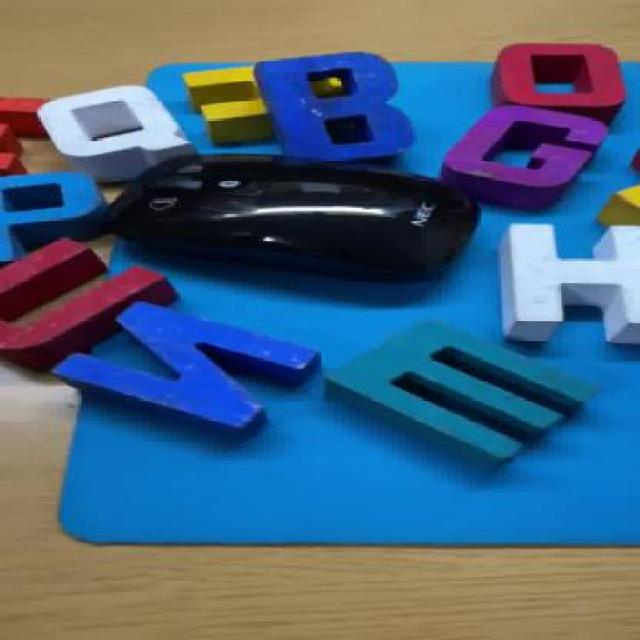B: (258, 48, 410, 164)
G: (431, 104, 620, 208)
H: (493, 218, 639, 351)
M: (323, 323, 631, 465)
O: (493, 40, 638, 118)
P: (0, 171, 109, 257)
Q: (39, 79, 190, 172)
U: (1, 238, 164, 369)
